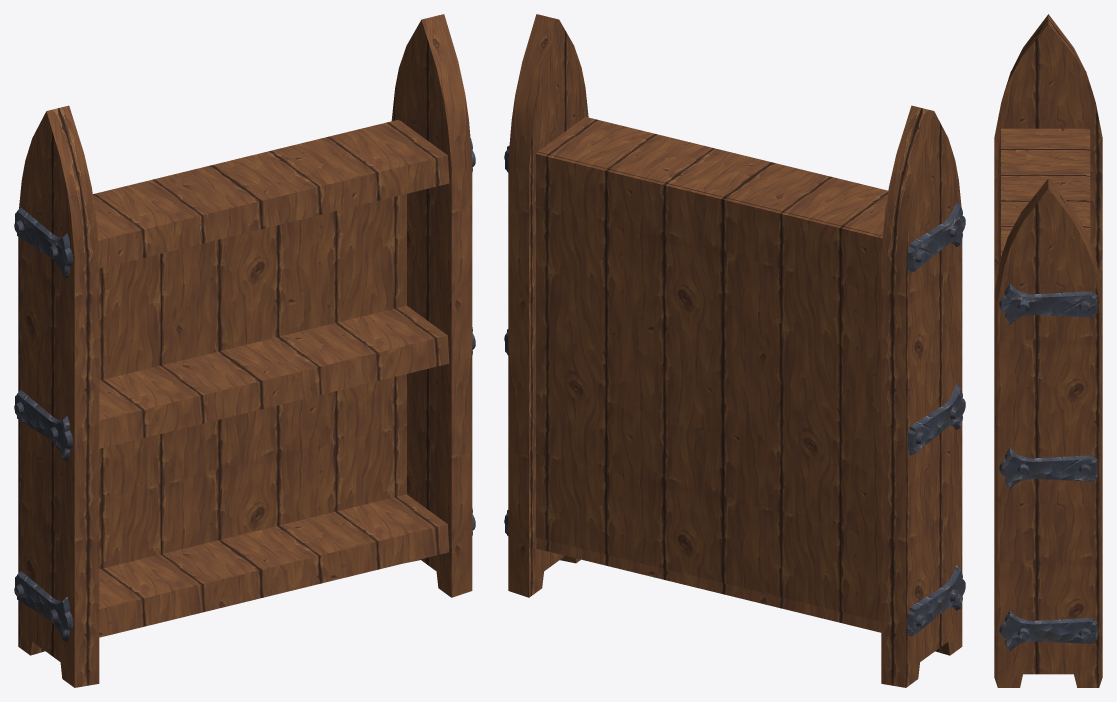
File: furn_shelf_arch.glb
The picture shows the model from 3 angles, left to right: view 1: azimuth 30°, elevation 25°; view 2: azimuth 150°, elevation 25°; view 3: azimuth 270°, elevation 25°; orthographic projection. The views are drawn at different scales.
Visible parts, largest first — view 1: model; view 2: model; view 3: model.
Boxes of the visible parts, x1,y1,x2,y2 form: model: [14, 14, 475, 687]; model: [504, 14, 965, 687]; model: [994, 14, 1102, 687].
Size of the model in its own units: 1.25 by 1.59 by 0.3116.
Materials: 2 (2 with a texture image).
